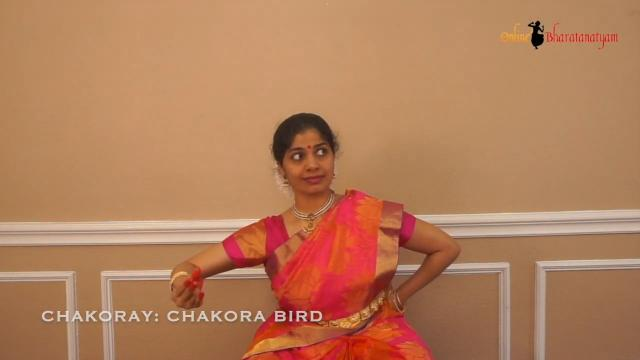kangul: (146, 250, 218, 310)
